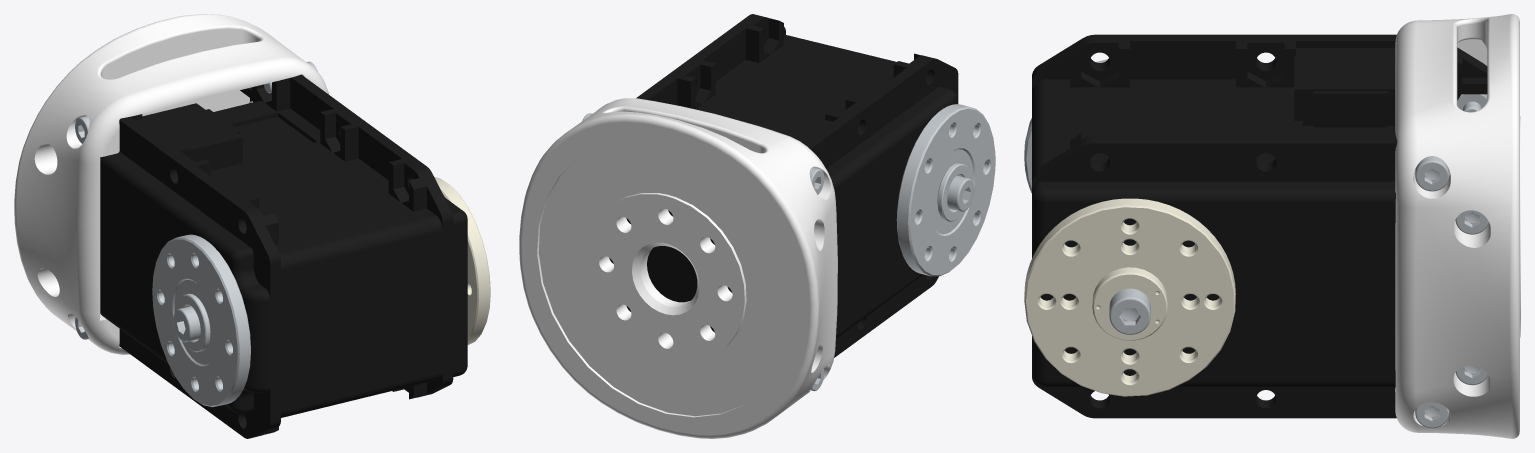
The model's file is shoulder_x.dae.
The picture shows the model from 3 angles, left to right: view 1: azimuth 30°, elevation 25°; view 2: azimuth 150°, elevation 25°; view 3: azimuth 270°, elevation 25°; orthographic projection. The views are drawn at different scales.
Visible parts, largest first — view 1: MX64_body, Shouler2Arm, MX64_free_horn, MX64_Horn, free_horn_screw, screws; view 2: Shouler2Arm, MX64_body, MX64_free_horn, free_horn_screw, screws; view 3: MX64_body, Shouler2Arm, MX64_Horn, screws, Horn_screw.
Part boxes in pixels (bbox=[...]): MX64_body: bbox=[100, 74, 467, 438]; Shouler2Arm: bbox=[14, 14, 328, 354]; MX64_free_horn: bbox=[152, 234, 250, 407]; MX64_Horn: bbox=[434, 177, 490, 344]; free_horn_screw: bbox=[173, 306, 200, 342]; screws: bbox=[75, 61, 317, 339]; Shouler2Arm: bbox=[519, 98, 837, 438]; MX64_body: bbox=[609, 14, 958, 357]; MX64_free_horn: bbox=[896, 104, 995, 276]; free_horn_screw: bbox=[947, 175, 974, 211]; screws: bbox=[582, 113, 824, 391]; MX64_body: bbox=[1032, 34, 1487, 418]; Shouler2Arm: bbox=[1395, 14, 1520, 438]; MX64_Horn: bbox=[1024, 198, 1235, 396]; screws: bbox=[1415, 94, 1488, 428]; Horn_screw: bbox=[1109, 288, 1150, 334].
Bounding box in the file's own units: 0.056 × 0.0554 × 0.0657.
